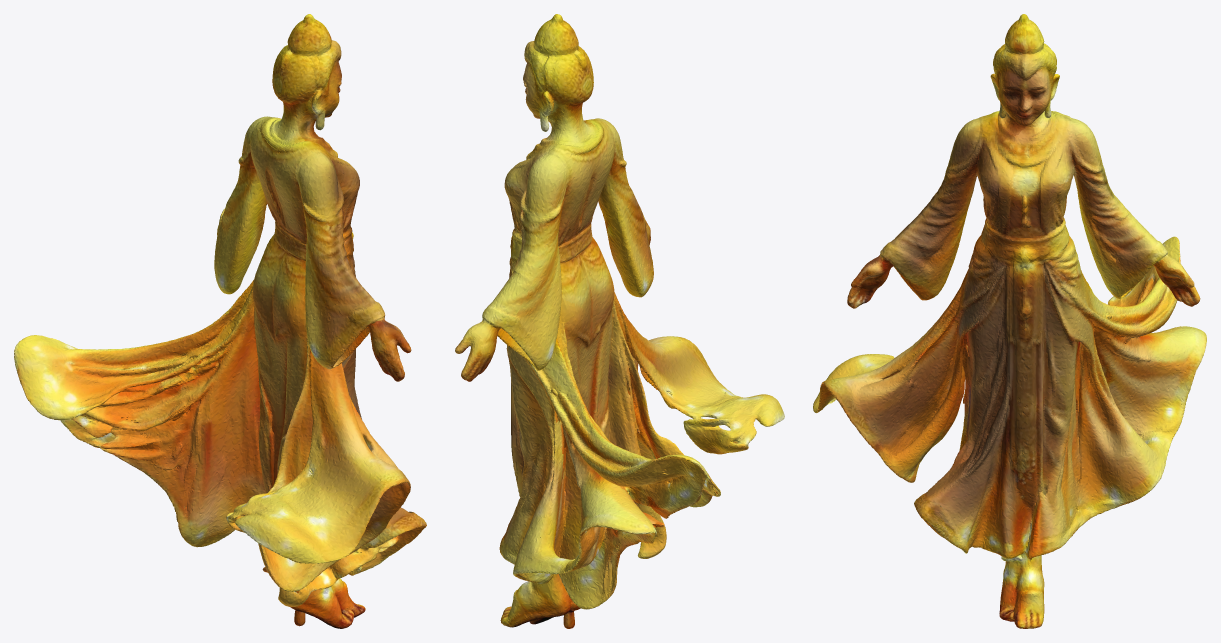
File: modelo40.glb
3 views of the same model, side by side, from view 1: azimuth 30°, elevation 25°; view 2: azimuth 150°, elevation 25°; view 3: azimuth 270°, elevation 25° (orthographic). The views are drawn at different scales.
Visible parts, largest first — view 1: tripo_node_438c0c8f-6c4f-4fa8-be6f-c59cf03aa778; view 2: tripo_node_438c0c8f-6c4f-4fa8-be6f-c59cf03aa778; view 3: tripo_node_438c0c8f-6c4f-4fa8-be6f-c59cf03aa778.
Boxes of the visible parts, x1,y1,x2,y2 form: tripo_node_438c0c8f-6c4f-4fa8-be6f-c59cf03aa778: (14, 14, 426, 628); tripo_node_438c0c8f-6c4f-4fa8-be6f-c59cf03aa778: (455, 14, 784, 628); tripo_node_438c0c8f-6c4f-4fa8-be6f-c59cf03aa778: (813, 14, 1206, 628).
Size of the model in its own units: 0.4924 by 1 by 0.6018.
1 material, 1 textured.
